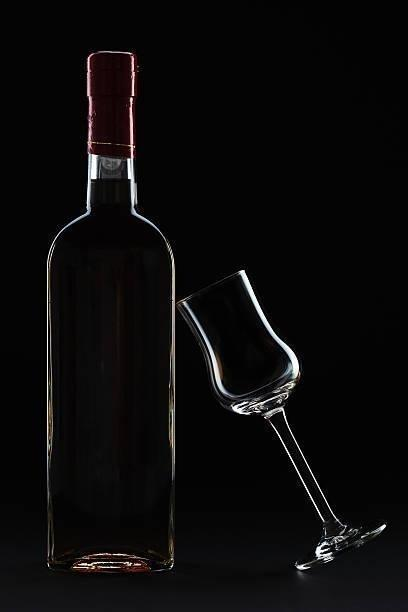bottle-glass: (40, 46, 180, 576)
glass-wine: (173, 267, 389, 569)
